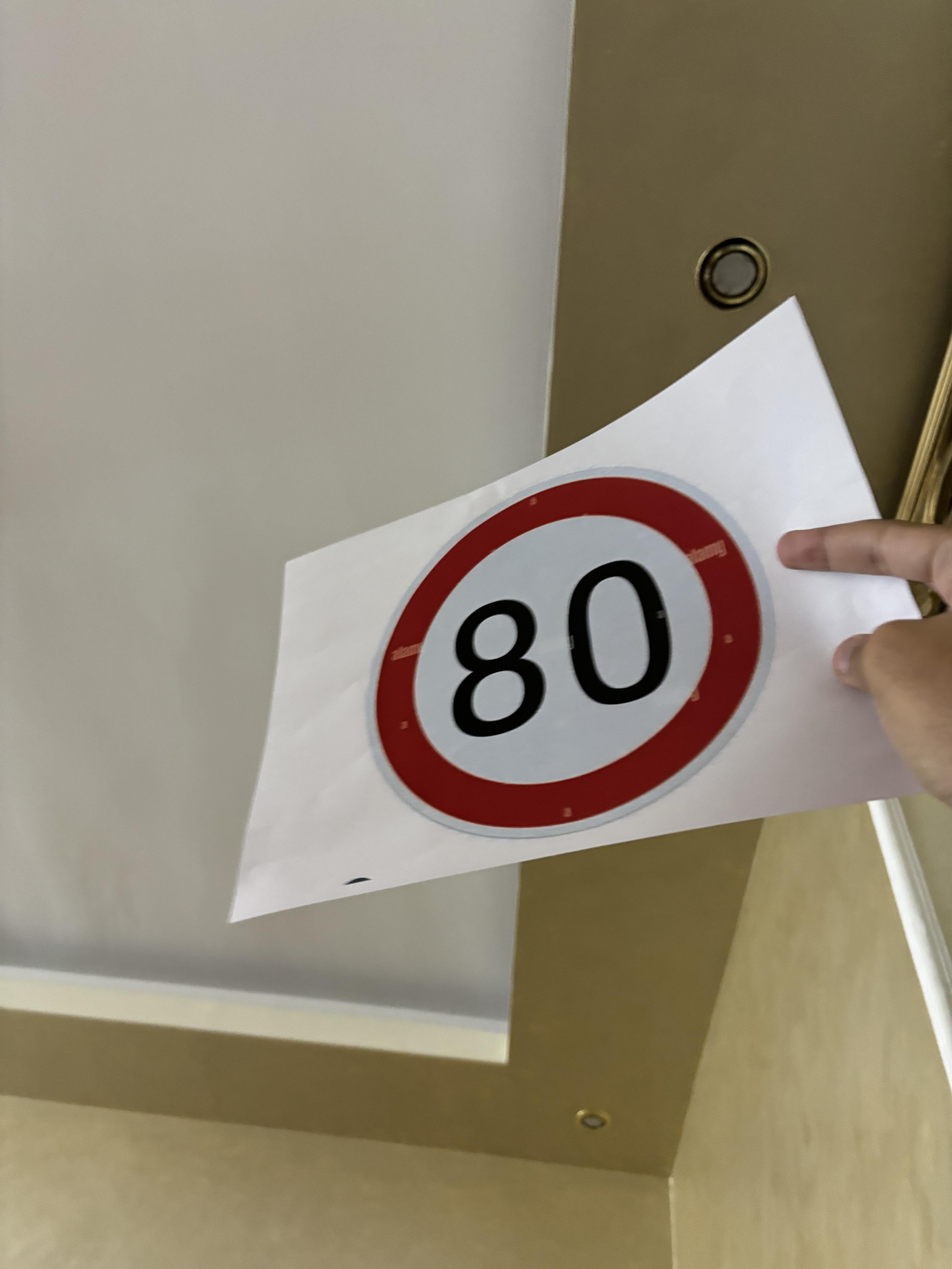80-Speed: (356, 460, 781, 849)
